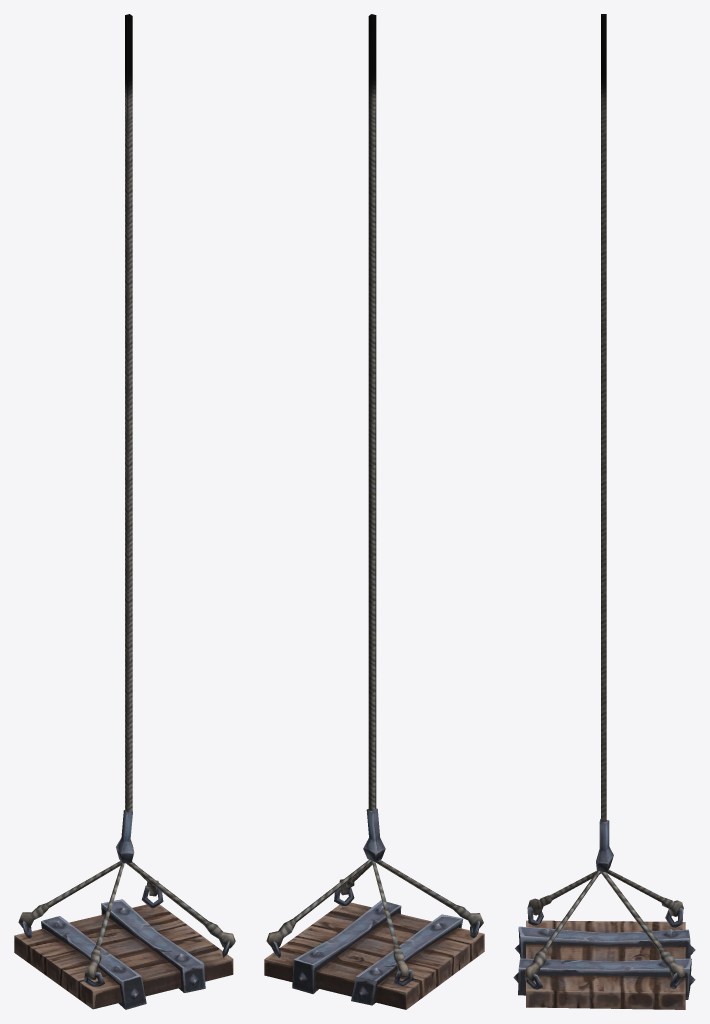
The model's file is mine_elevator01.fbx.
3 views of the same model, side by side, from view 1: azimuth 30°, elevation 25°; view 2: azimuth 150°, elevation 25°; view 3: azimuth 270°, elevation 25° (orthographic).
Visible parts, largest first — view 1: mine_elevator01-0; view 2: mine_elevator01-0; view 3: mine_elevator01-0.
Boxes of the visible parts, box(x1,y1,x2,y2) form: mine_elevator01-0: box(14, 14, 235, 1009); mine_elevator01-0: box(264, 14, 484, 1009); mine_elevator01-0: box(513, 14, 695, 1009).
Size of the model in its own units: 3.72 by 23.06 by 3.95.
